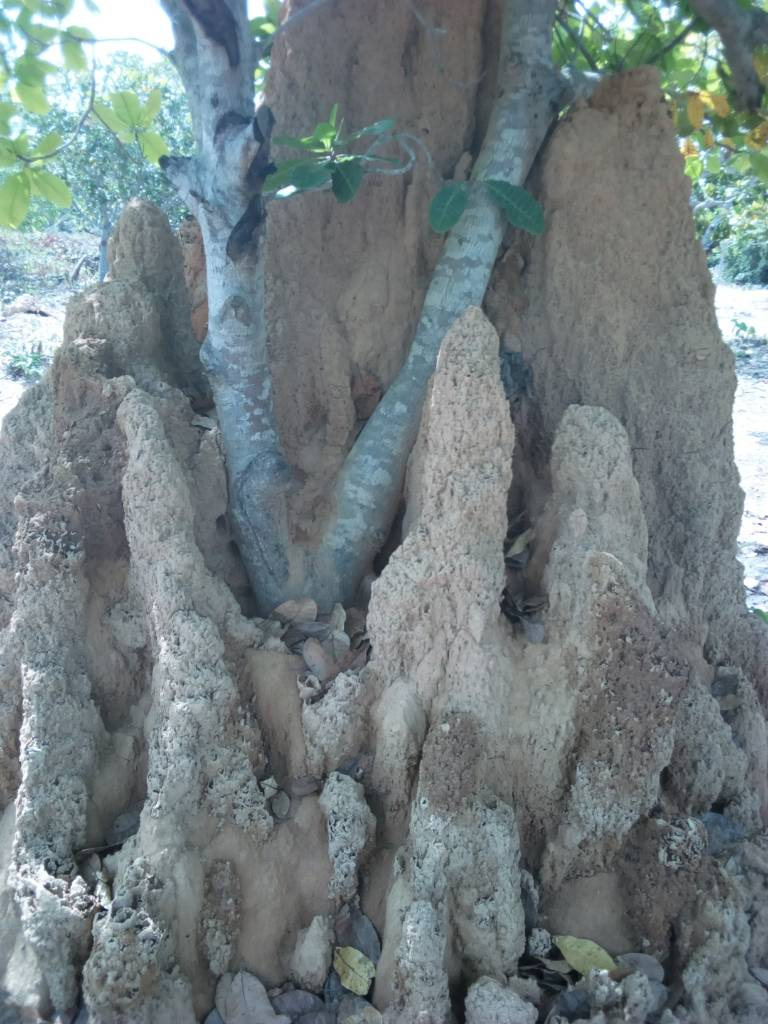Termites: (435, 350, 738, 964), (18, 363, 235, 996), (241, 616, 405, 964), (277, 222, 343, 438), (79, 207, 165, 371)
